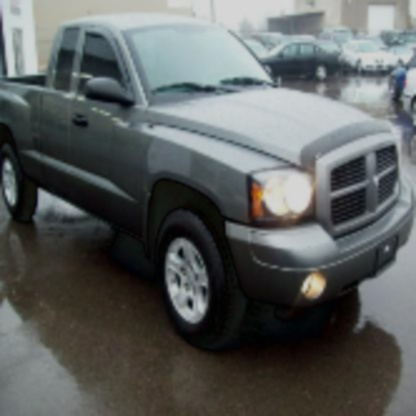Vehicle: (0, 19, 416, 349)
